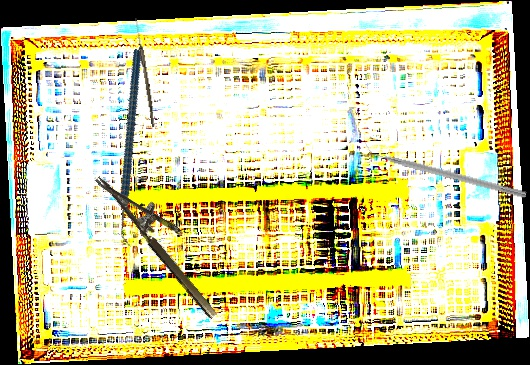Chopper: (60, 48, 207, 248), (361, 139, 530, 199)
Needle Holder: (94, 158, 237, 321)
Surgical Spoon: (132, 17, 158, 128)
